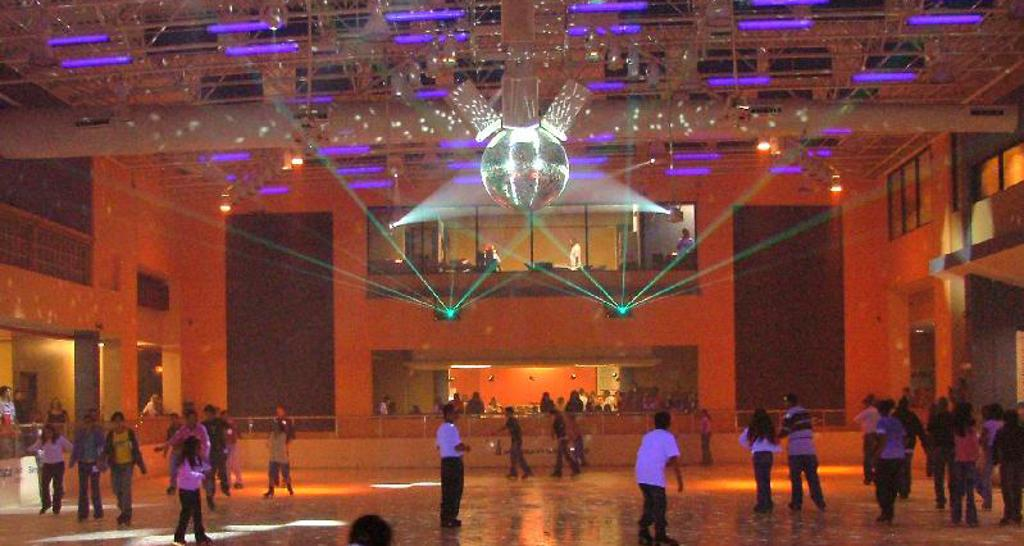face: (113, 419, 123, 429), (188, 415, 196, 427), (195, 445, 204, 455), (452, 410, 458, 422), (86, 418, 93, 428), (170, 416, 177, 426), (785, 401, 793, 409), (46, 430, 53, 439), (278, 409, 285, 417), (5, 390, 11, 399), (208, 410, 214, 417), (505, 411, 511, 418), (55, 401, 60, 408)
